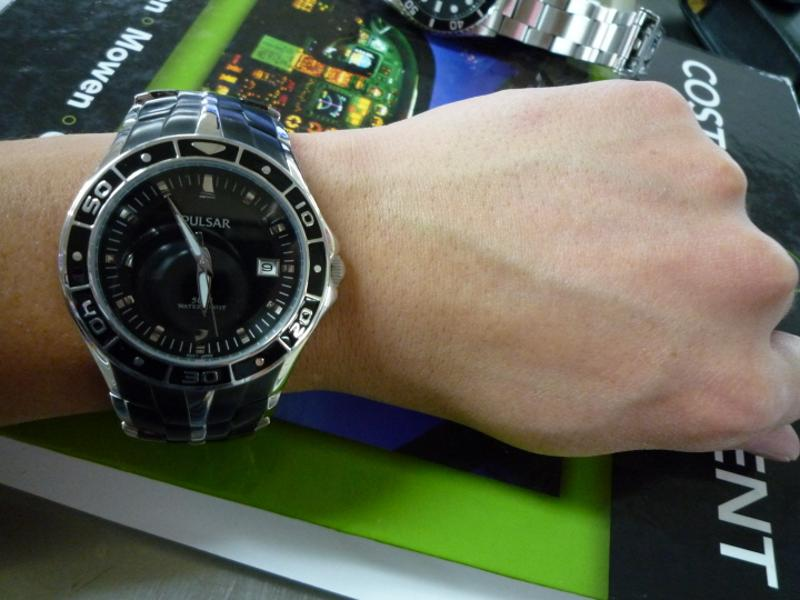watch: (56, 90, 345, 443)
